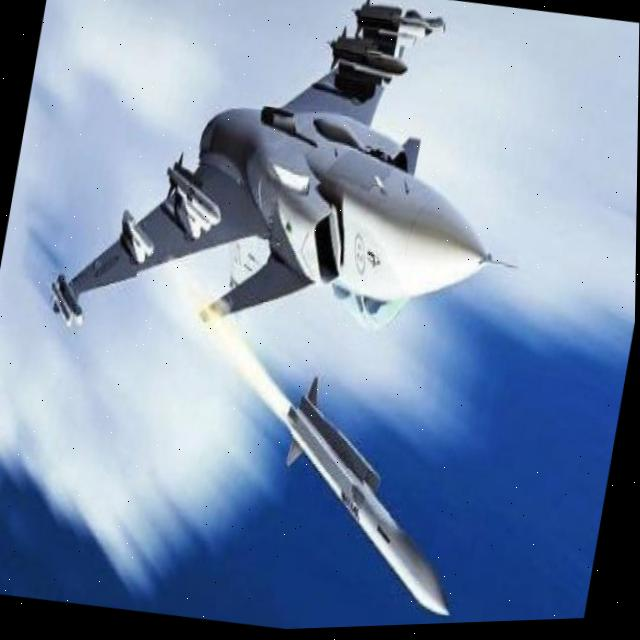missile: (256, 362, 487, 625)
